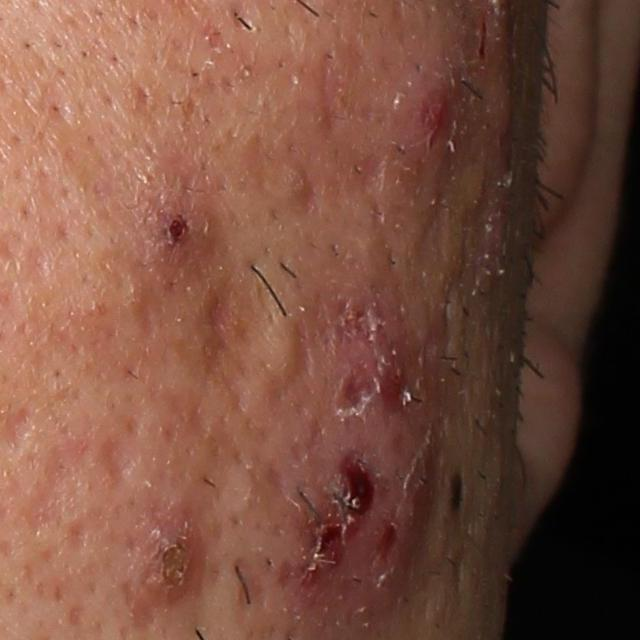atrophic_scar: (168, 265, 285, 404), (21, 430, 102, 538), (311, 32, 360, 153), (2, 393, 40, 461), (94, 434, 139, 488), (286, 165, 323, 212)
nodule: (287, 276, 453, 639)
papule: (129, 509, 199, 606), (148, 185, 212, 263), (405, 85, 455, 155)
